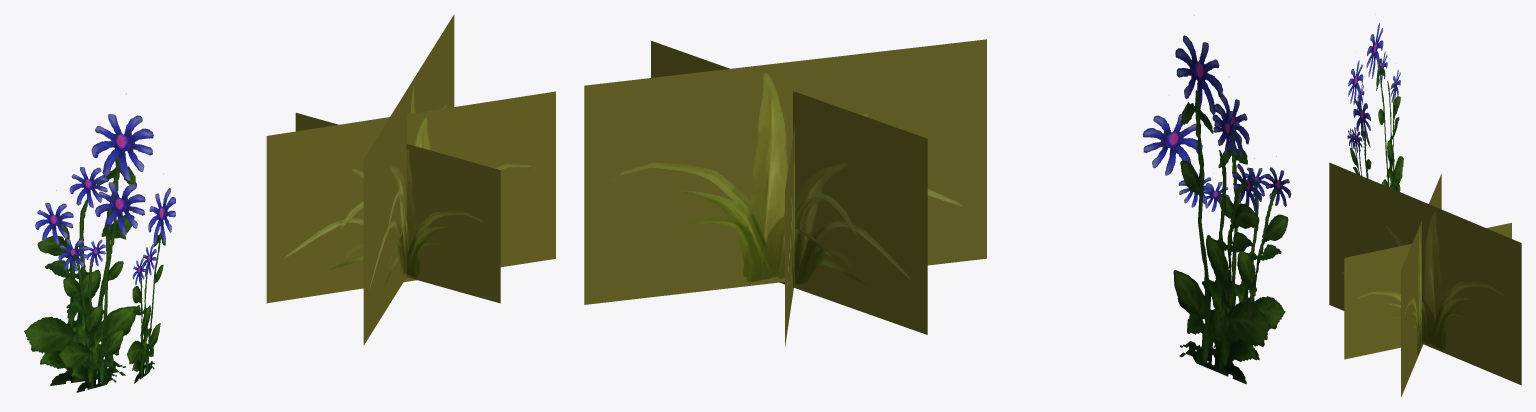
The model's file is Grass.FBX.
The picture shows the model from 3 angles, left to right: view 1: azimuth 30°, elevation 25°; view 2: azimuth 150°, elevation 25°; view 3: azimuth 270°, elevation 25°; orthographic projection. The views are drawn at different scales.
Parts seen in each view (by area): view 1: grass01, floor; view 2: grass01, floor; view 3: grass01, floor.
Part boxes in pixels (box(x1,y1,x2,y2)): grass01: box(266, 14, 555, 345); floor: box(24, 93, 175, 392); grass01: box(584, 39, 986, 346); floor: box(1142, 14, 1291, 384); grass01: box(1329, 162, 1521, 397); floor: box(1347, 23, 1403, 191).
Bounding box in the file's own units: 122 × 62.81 × 49.56.
